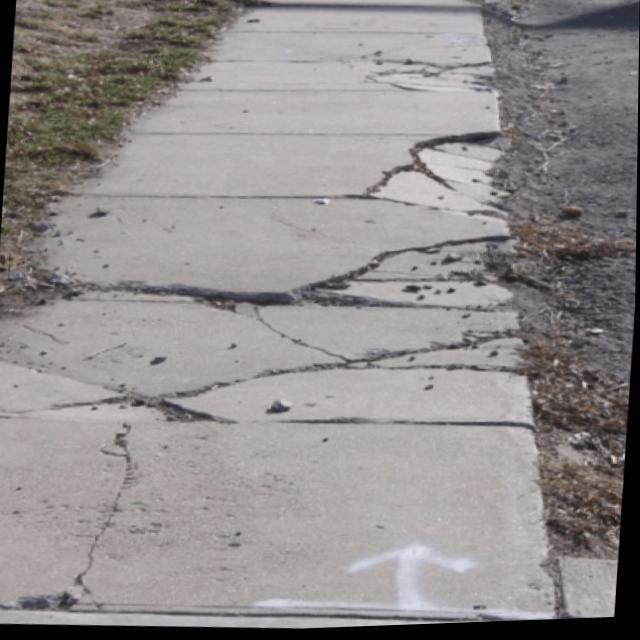hole: (360, 95, 530, 244), (122, 262, 360, 354), (357, 239, 543, 338), (65, 368, 244, 442)
